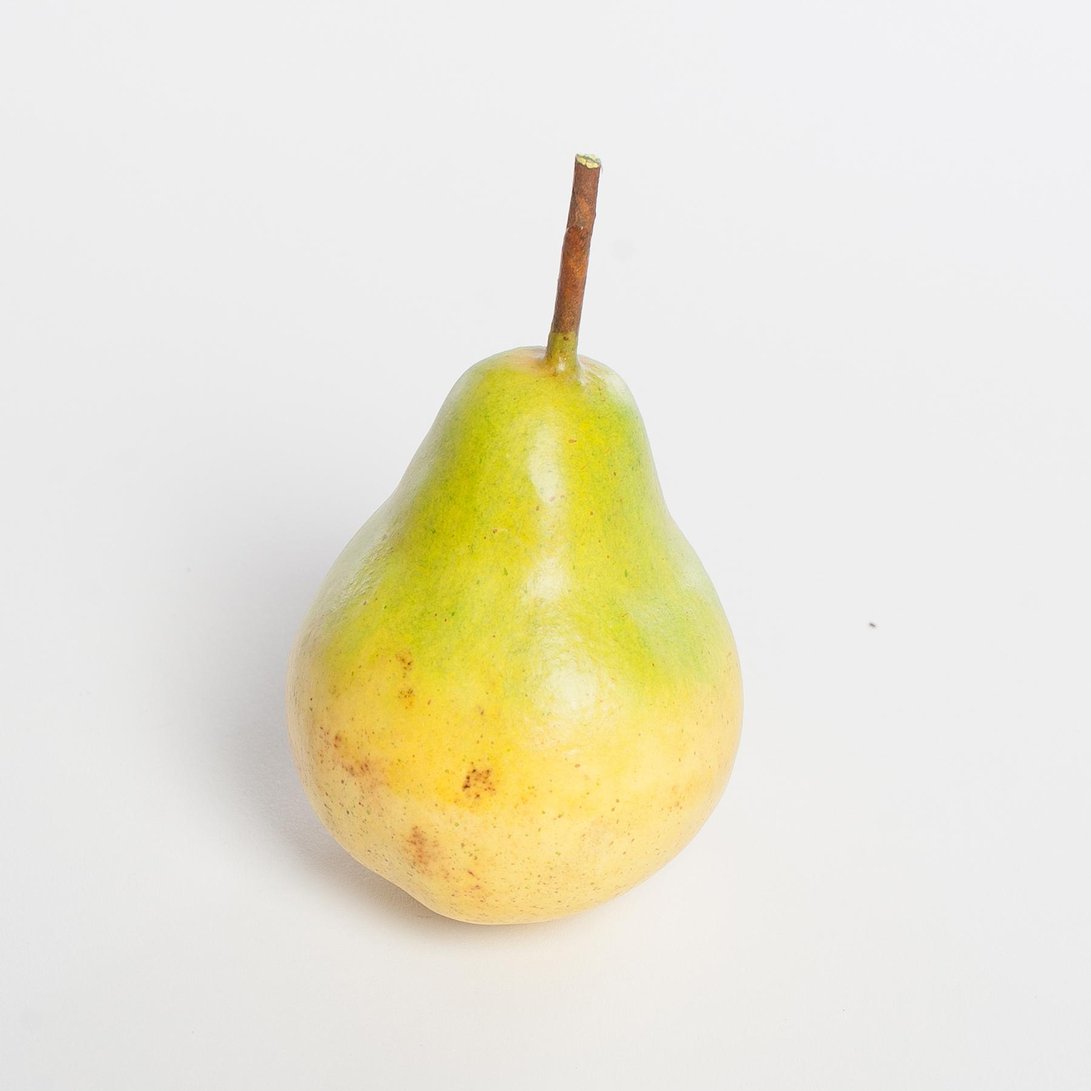Pear Unripe: (267, 206, 752, 949)
